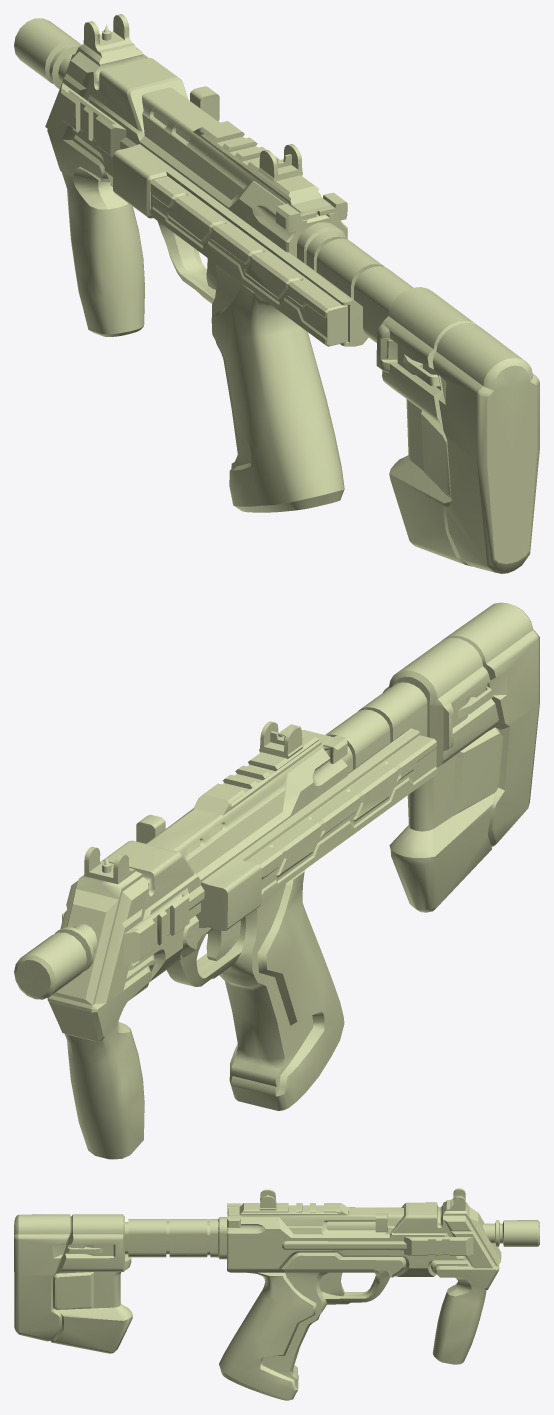
3 renders of one model, top to bottom at view 1: azimuth 30°, elevation 25°; view 2: azimuth 150°, elevation 25°; view 3: azimuth 270°, elevation 25°, orthographic. The views are drawn at different scales.
Visible parts, largest first — view 1: w_m7_body_base, w_m7_body_mag, w_m7_barrel, w_m7_optics_ironsight; view 2: w_m7_body_base, w_m7_body_mag, w_m7_barrel, w_m7_optics_ironsight; view 3: w_m7_body_base, w_m7_barrel, w_m7_optics_ironsight.
Boxes of the visible parts, <box> form: w_m7_body_base: <box>45,14,539,573</box>; w_m7_body_mag: <box>150,176,347,346</box>; w_m7_barrel: <box>14,18,81,88</box>; w_m7_optics_ironsight: <box>258,144,302,182</box>; w_m7_body_base: <box>47,602,539,1159</box>; w_m7_body_mag: <box>246,735,436,900</box>; w_m7_barrel: <box>14,924,96,999</box>; w_m7_optics_ironsight: <box>259,721,303,758</box>; w_m7_body_base: <box>14,1188,501,1400</box>; w_m7_barrel: <box>482,1220,539,1246</box>; w_m7_optics_ironsight: <box>259,1189,276,1210</box>.
Bounding box in the file's own units: 260 × 948 × 2225.
